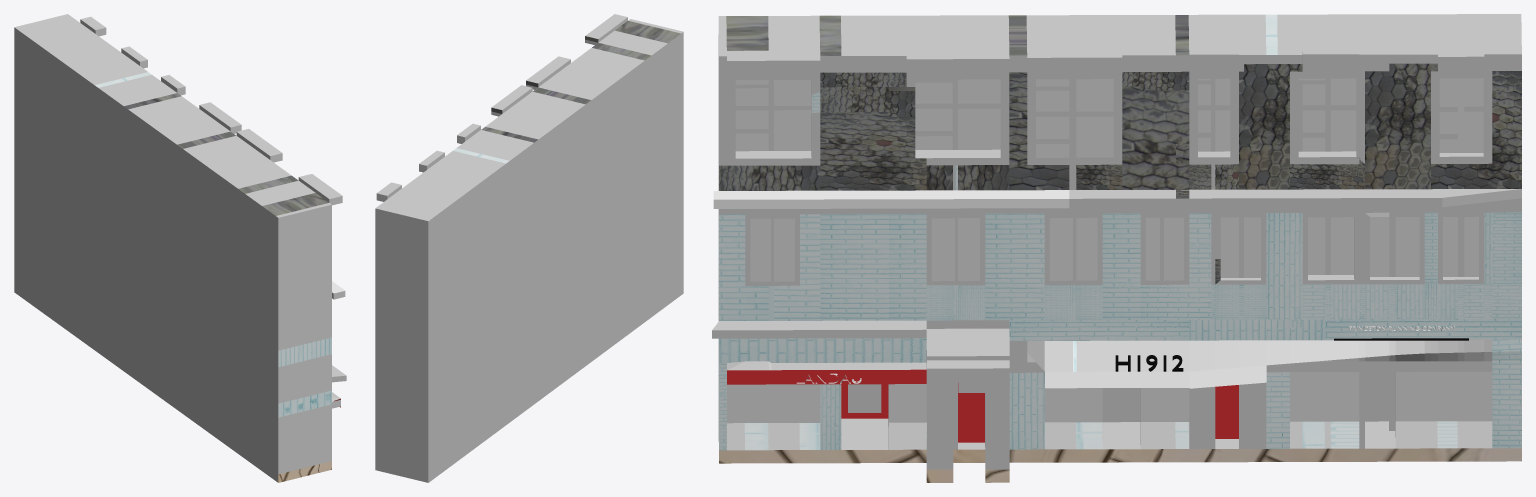
3 views of the same model, side by side, from view 1: azimuth 30°, elevation 25°; view 2: azimuth 150°, elevation 25°; view 3: azimuth 270°, elevation 25° (orthographic). The views are drawn at different scales.
Parts seen in each view (by area): view 1: Landau; view 2: Landau; view 3: Landau.
Boxes of the visible parts, x1,y1,x2,y2 form: Landau: (14,14,346,482); Landau: (375,14,683,482); Landau: (712,14,1521,482).
Bounding box in the file's own units: 14.88 × 41.28 × 73.22.
11 materials, 3 textured.
